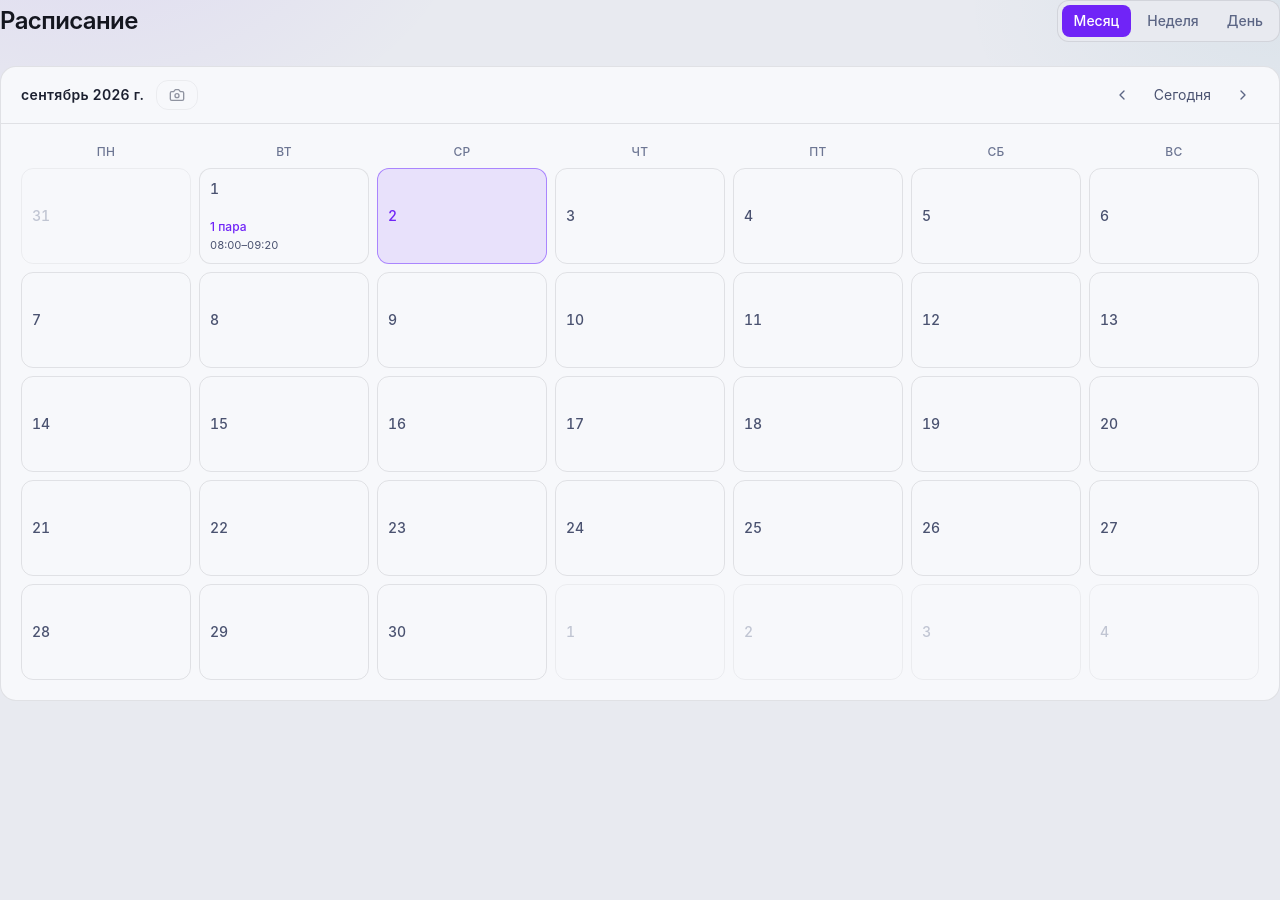
it: SchedulePage › opens a day dialog from the month grid
Step 1. Click the button with aria-label "2026-09-01, 1 пара" → {"x": 284, "y": 216}, box 199,168 -> 369,264
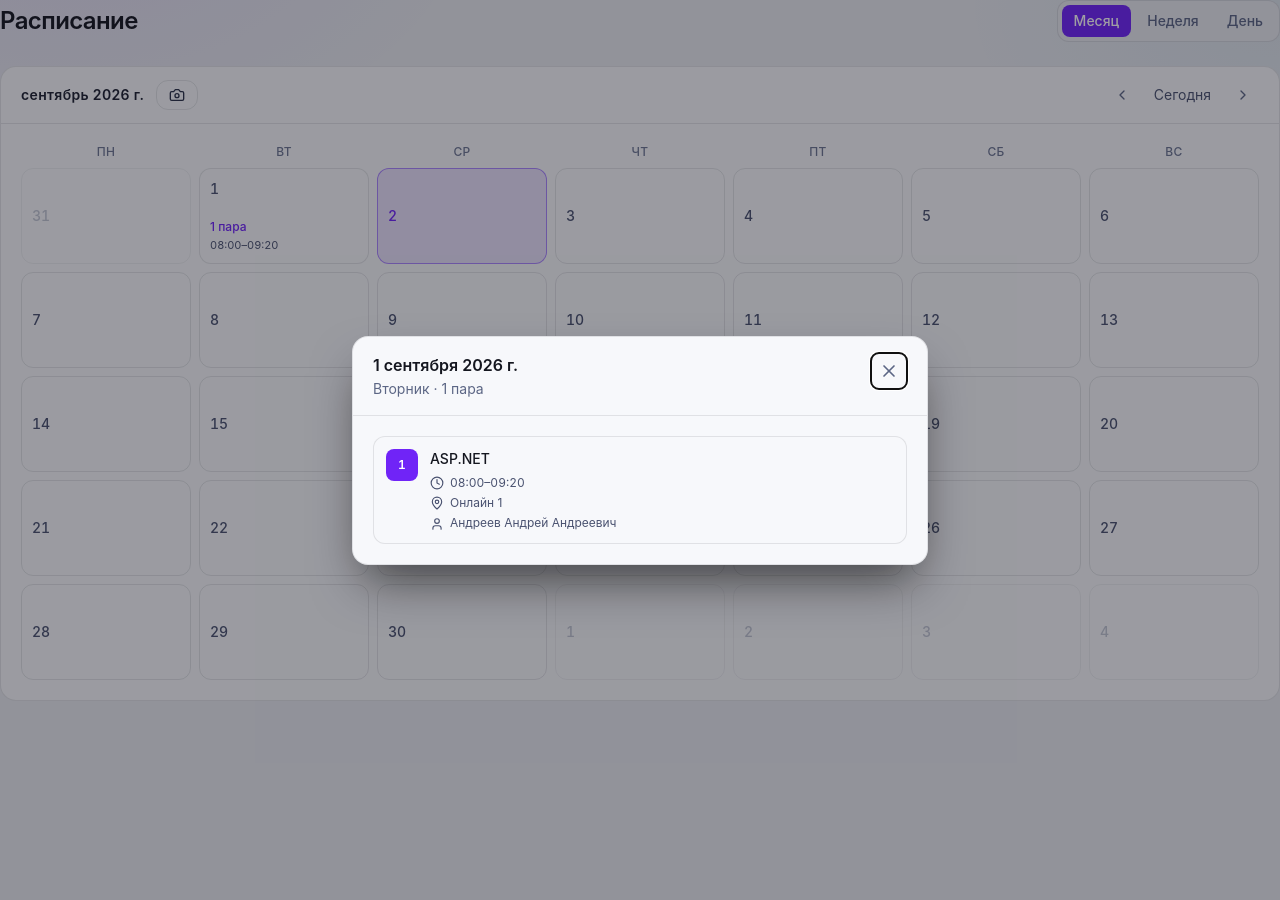
Check: the text "ASP.NET" is shown, box 430,450 -> 490,466
Check: the text "08:00–09:20" is shown, box 430,474 -> 525,490
Check: the text "Онлайн 1" is shown, box 430,494 -> 502,510
